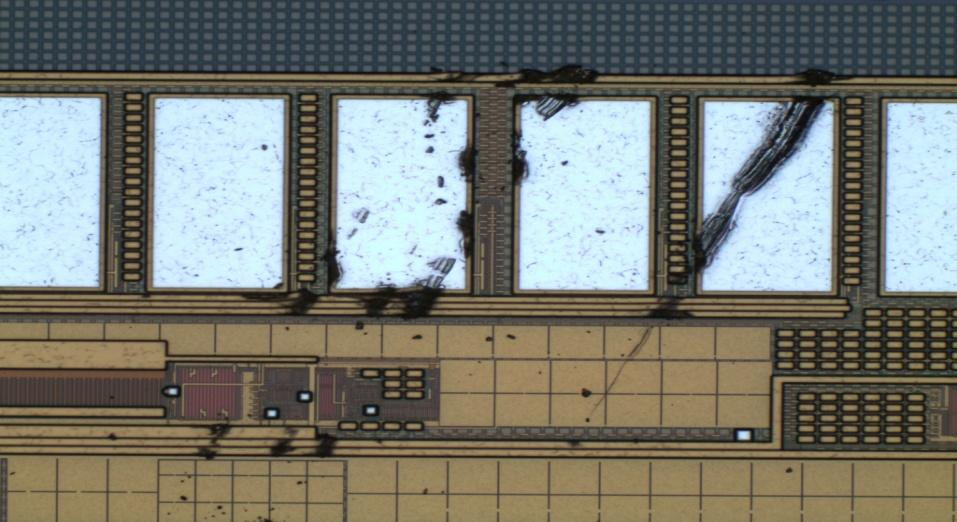SCRATCH: (151, 55, 866, 522)
